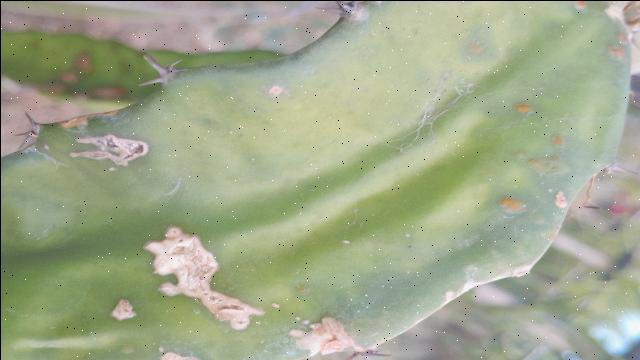stemcanker: (445, 30, 602, 227), (258, 69, 301, 119)
